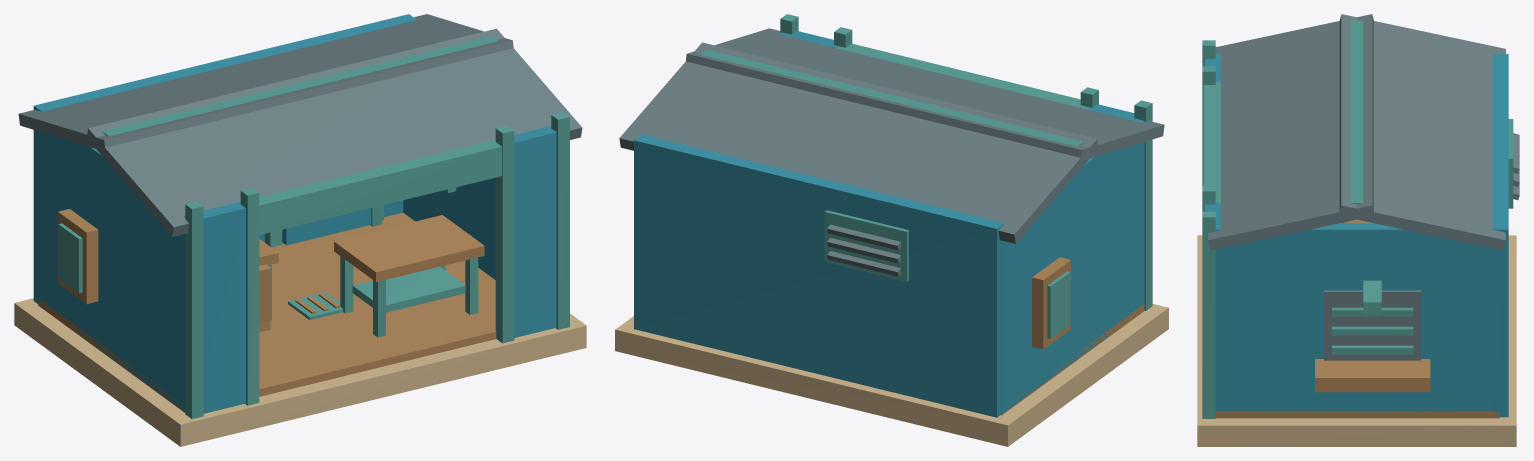
File: butcher.source.glb
The picture shows the model from 3 angles, left to right: view 1: azimuth 30°, elevation 25°; view 2: azimuth 150°, elevation 25°; view 3: azimuth 270°, elevation 25°; orthographic projection. The views are drawn at different scales.
Parts seen in each view (by area): view 1: butcher-roof-slope-0.5-mesh, butcher-left-insulated-wall-mesh, butcher-washable-process-floor-mesh, butcher-washable-stone-foundation-mesh, butcher-roof-slope--0.5-mesh, butcher-open-workshop-header-mesh, butcher-front-left-return-mesh, butcher-front-right-return-mesh, butcher-empty-work-table-right-top-mesh, butcher-rear-insulated-wall-mesh, butcher-front-frame-post-1.08-mesh, butcher-front-frame-post--1.55-mesh (+13 smaller); view 2: butcher-rear-insulated-wall-mesh, butcher-roof-slope--0.5-mesh, butcher-left-insulated-wall-mesh, butcher-washable-stone-foundation-mesh, butcher-roof-slope-0.5-mesh, butcher-roof-ridge-mesh, butcher-high-ventilation-louver-back-mesh, butcher-open-workshop-header-mesh, butcher-front-frame-post--1.55-mesh, butcher-exterior-power-cabinet-mesh, butcher-power-cabinet-face-mesh, butcher-ventilation-slat-1.46-mesh (+3 smaller); view 3: butcher-right-insulated-wall-mesh, butcher-roof-slope--0.5-mesh, butcher-roof-slope-0.5-mesh, butcher-washable-stone-foundation-mesh, butcher-rear-insulated-wall-mesh, butcher-clean-output-shutter-mesh, butcher-empty-output-counter-mesh, butcher-front-frame-post-1.55-mesh, butcher-roof-ridge-mesh, butcher-washable-process-floor-mesh, butcher-open-workshop-header-mesh, butcher-front-right-return-mesh (+6 smaller).
Part boxes in pixels (x1=…): butcher-roof-slope-0.5-mesh: x1=87, y1=28, x2=582, y2=236; butcher-left-insulated-wall-mesh: x1=41, y1=107, x2=185, y2=411; butcher-washable-process-floor-mesh: x1=38, y1=212, x2=496, y2=412; butcher-washable-stone-foundation-mesh: x1=14, y1=298, x2=586, y2=446; butcher-roof-slope--0.5-mesh: x1=18, y1=14, x2=513, y2=151; butcher-open-workshop-header-mesh: x1=259, y1=139, x2=501, y2=235; butcher-front-left-return-mesh: x1=203, y1=201, x2=245, y2=413; butcher-front-right-return-mesh: x1=514, y1=126, x2=556, y2=337; butcher-empty-work-table-right-top-mesh: x1=334, y1=215, x2=484, y2=281; butcher-rear-insulated-wall-mesh: x1=33, y1=14, x2=416, y2=305; butcher-front-frame-post-1.08-mesh: x1=495, y1=125, x2=514, y2=343; butcher-front-frame-post--1.55-mesh: x1=185, y1=201, x2=203, y2=419; butcher-rear-insulated-wall-mesh: x1=634, y1=136, x2=1004, y2=417; butcher-roof-slope--0.5-mesh: x1=619, y1=42, x2=1097, y2=243; butcher-left-insulated-wall-mesh: x1=990, y1=118, x2=1143, y2=412; butcher-washable-stone-foundation-mesh: x1=615, y1=304, x2=1168, y2=446; butcher-roof-slope-0.5-mesh: x1=686, y1=28, x2=1164, y2=158; butcher-roof-ridge-mesh: x1=700, y1=50, x2=1083, y2=146; butcher-high-ventilation-louver-back-mesh: x1=824, y1=210, x2=908, y2=281; butcher-open-workshop-header-mesh: x1=836, y1=43, x2=1088, y2=109; butcher-front-frame-post--1.55-mesh: x1=1134, y1=100, x2=1152, y2=310; butcher-exterior-power-cabinet-mesh: x1=1032, y1=257, x2=1070, y2=349; butcher-power-cabinet-face-mesh: x1=1047, y1=271, x2=1070, y2=338; butcher-ventilation-slat-1.46-mesh: x1=827, y1=224, x2=900, y2=250; butcher-right-insulated-wall-mesh: x1=1216, y1=223, x2=1496, y2=416; butcher-roof-slope--0.5-mesh: x1=1339, y1=14, x2=1505, y2=250; butcher-roof-slope-0.5-mesh: x1=1208, y1=14, x2=1374, y2=250; butcher-washable-stone-foundation-mesh: x1=1197, y1=235, x2=1516, y2=446; butcher-rear-insulated-wall-mesh: x1=1493, y1=54, x2=1508, y2=417; butcher-clean-output-shutter-mesh: x1=1324, y1=290, x2=1420, y2=360; butcher-empty-output-counter-mesh: x1=1315, y1=359, x2=1430, y2=392; butcher-front-frame-post-1.55-mesh: x1=1202, y1=211, x2=1215, y2=418; butcher-roof-ridge-mesh: x1=1350, y1=20, x2=1363, y2=204; butcher-washable-process-floor-mesh: x1=1215, y1=411, x2=1499, y2=418; butcher-open-workshop-header-mesh: x1=1203, y1=80, x2=1220, y2=203; butcher-front-right-return-mesh: x1=1205, y1=202, x2=1220, y2=416.
Bounding box in the file's own units: 3.71 × 2.04 × 2.46.
